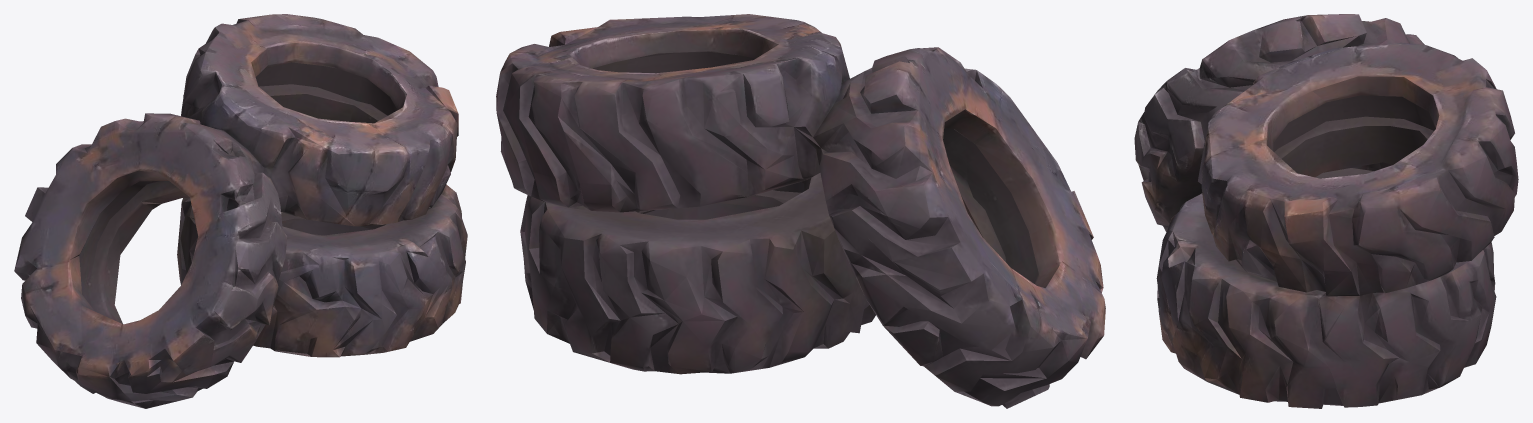
File: tire_stack.glb
The picture shows the model from 3 angles, left to right: view 1: azimuth 30°, elevation 25°; view 2: azimuth 150°, elevation 25°; view 3: azimuth 270°, elevation 25°; orthographic projection. The views are drawn at different scales.
Visible parts, largest first — view 1: body; view 2: body; view 3: body.
Part boxes in pixels (box(x1,y1,x2,y2)): body: box(14, 14, 467, 408); body: box(496, 14, 1105, 408); body: box(1134, 14, 1518, 408).
Size of the model in its own units: 1.5 by 0.9 by 1.06.
Materials: 1 (1 with a texture image).
